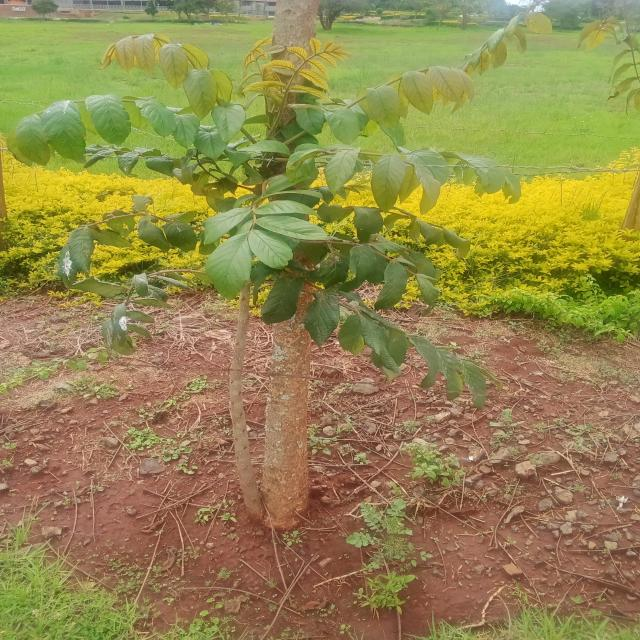Polyscias Kikuyensis: (0, 10, 589, 532)
